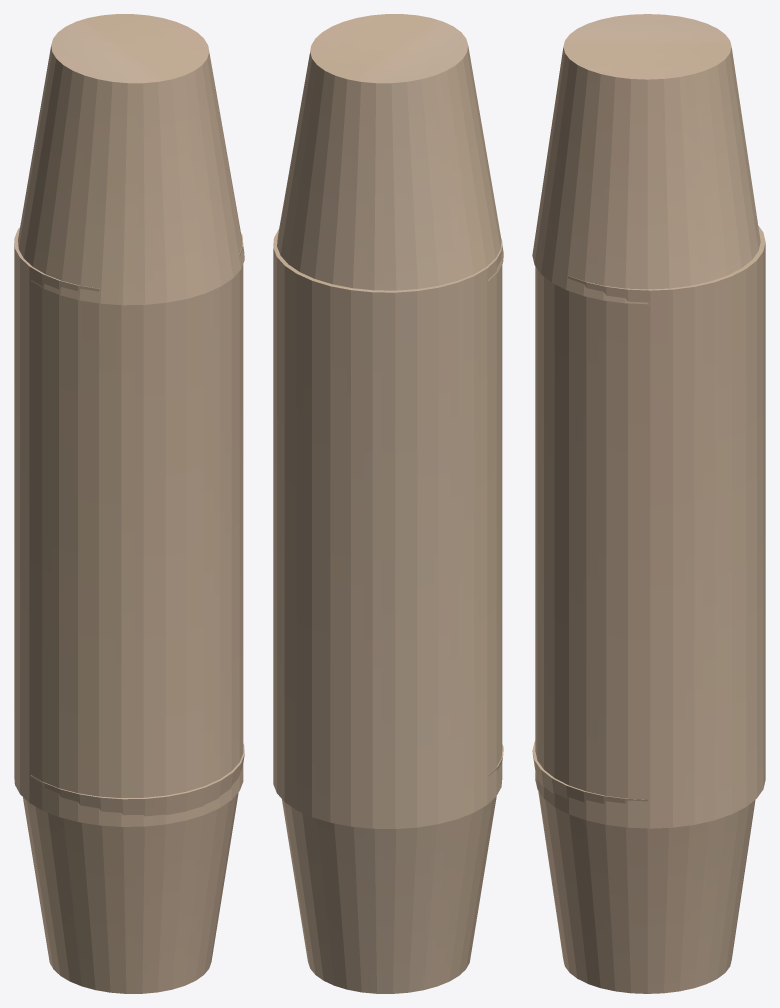
File: CandlepinBowlingPin.glb
3 renders of one model, left to right at view 1: azimuth 30°, elevation 25°; view 2: azimuth 150°, elevation 25°; view 3: azimuth 270°, elevation 25°, orthographic.
Visible parts, largest first — view 1: Cylinder, Cylinder.001, Cylinder.002; view 2: Cylinder, Cylinder.001, Cylinder.002; view 3: Cylinder, Cylinder.001, Cylinder.002.
Part boxes in pixels (<box>): Cylinder: <box>14,227,243,826</box>; Cylinder.001: <box>18,14,244,305</box>; Cylinder.002: <box>23,743,244,993</box>; Cylinder: <box>273,229,502,828</box>; Cylinder.001: <box>277,14,503,290</box>; Cylinder.002: <box>282,744,503,993</box>; Cylinder: <box>535,226,765,828</box>; Cylinder.001: <box>532,14,760,304</box>; Cylinder.002: <box>532,741,755,993</box>.
Size of the model in its own units: 2 by 8.75 by 2.03.
3 materials, 3 textured.
